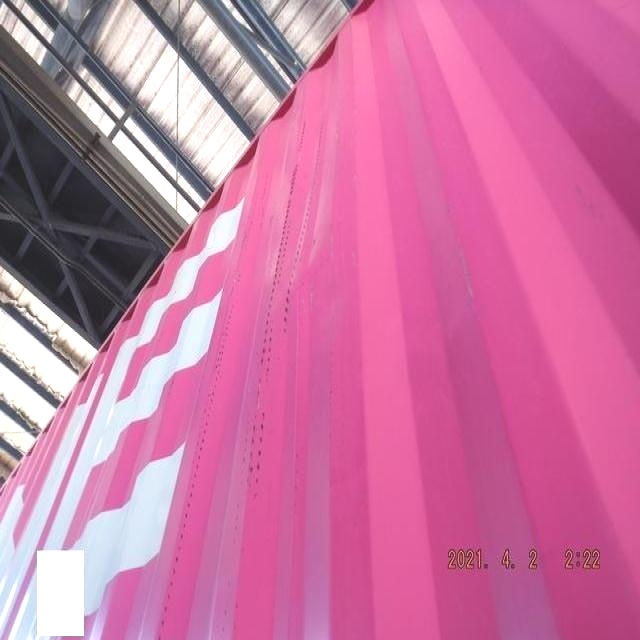Dent: (240, 216, 369, 340)
